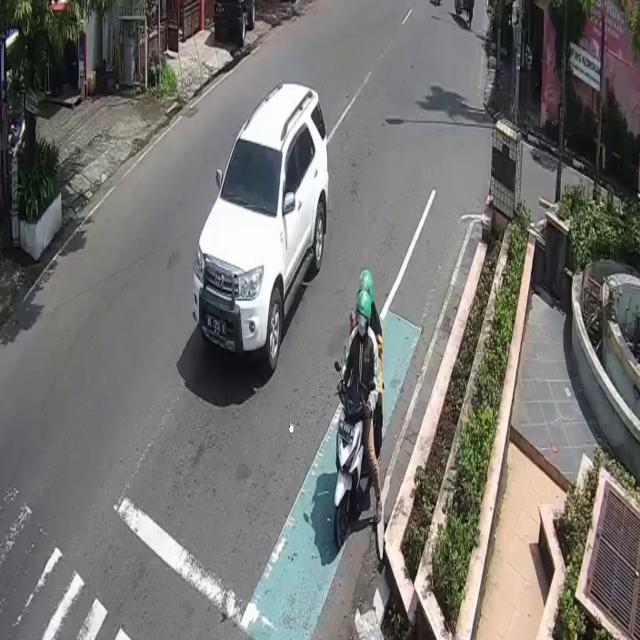bus: (334, 386, 366, 552)
motorcycle: (192, 80, 328, 374)
